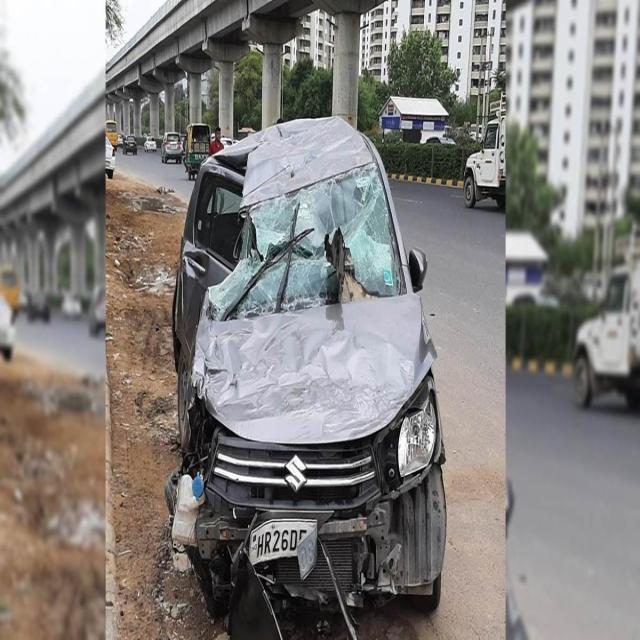accident: (166, 117, 446, 636)
autorickshaw: (184, 124, 210, 180)
car: (161, 130, 182, 162)
truck: (464, 90, 506, 209)
